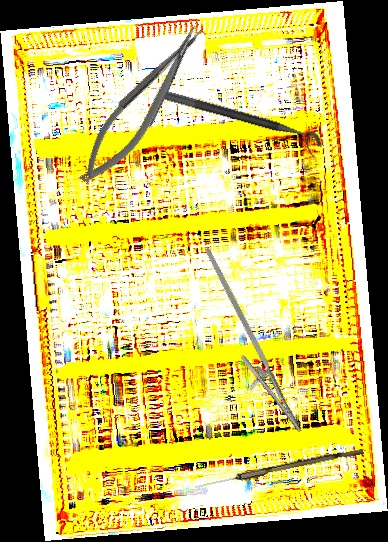Fixation Ring: (158, 89, 326, 159)
Needle Holder: (170, 246, 324, 443), (66, 18, 219, 194)
Surgical Spoon: (194, 444, 364, 493)
